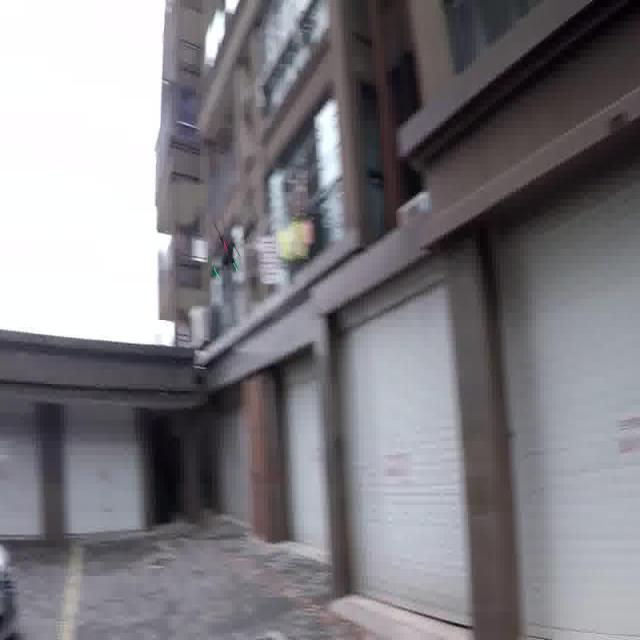drone: (201, 221, 259, 280)
